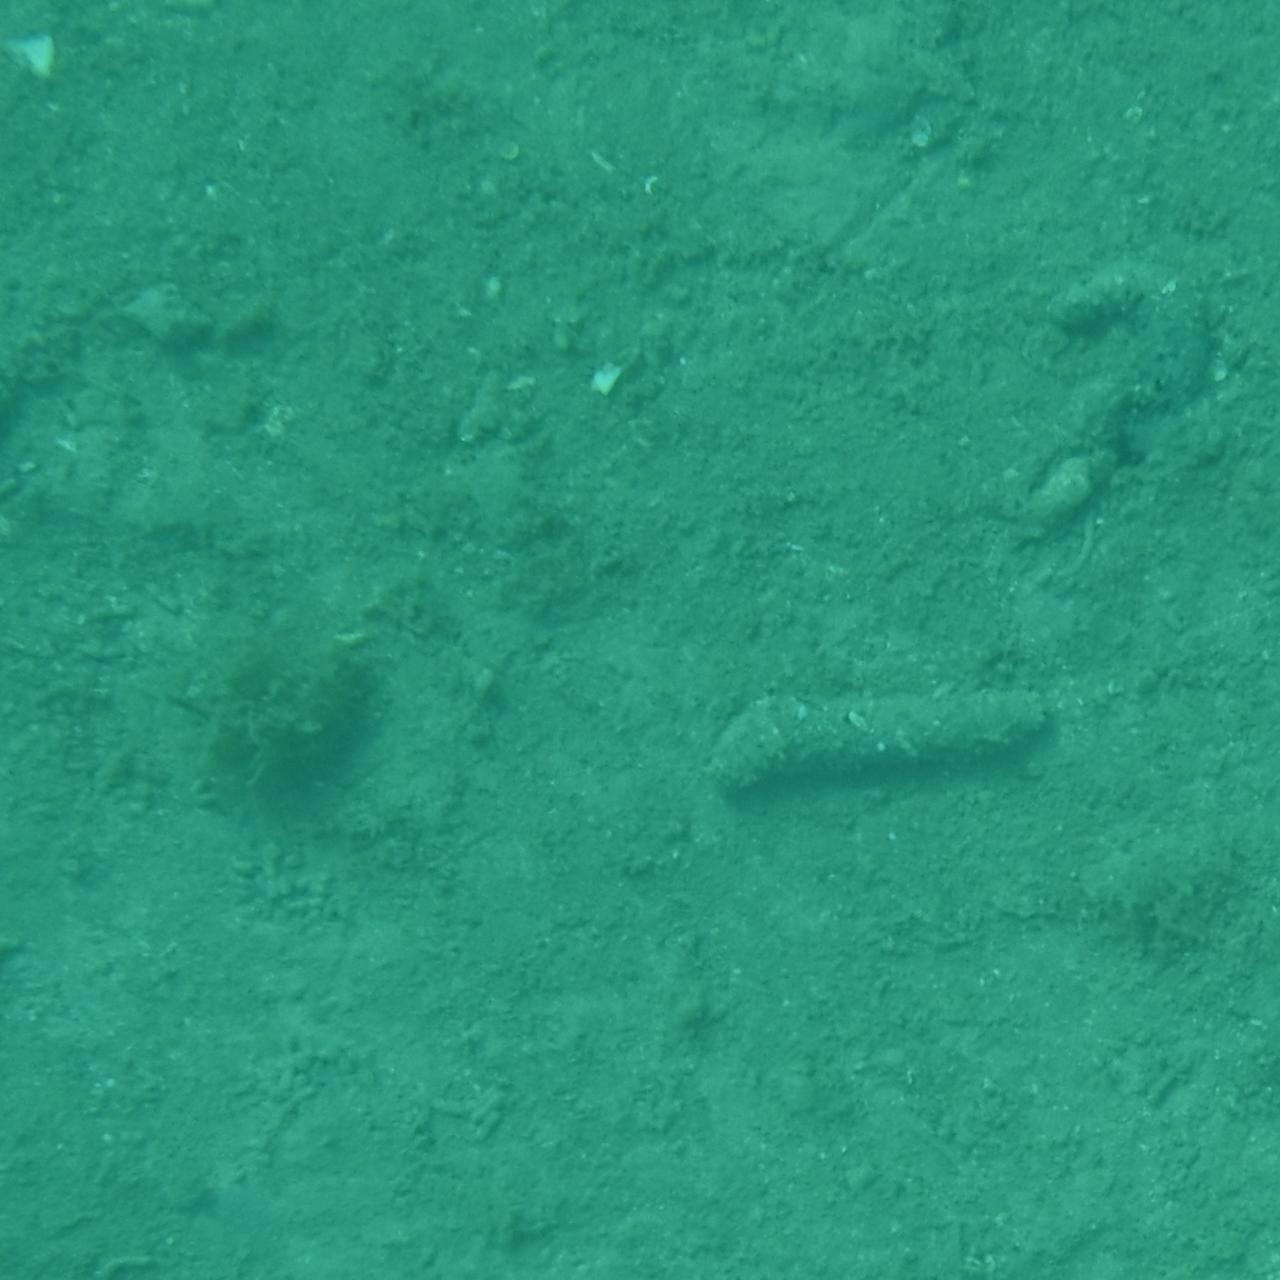Holothuria tubulosa: (983, 241, 1239, 565), (700, 667, 1107, 817), (0, 299, 186, 563), (1189, 697, 1280, 1056)
